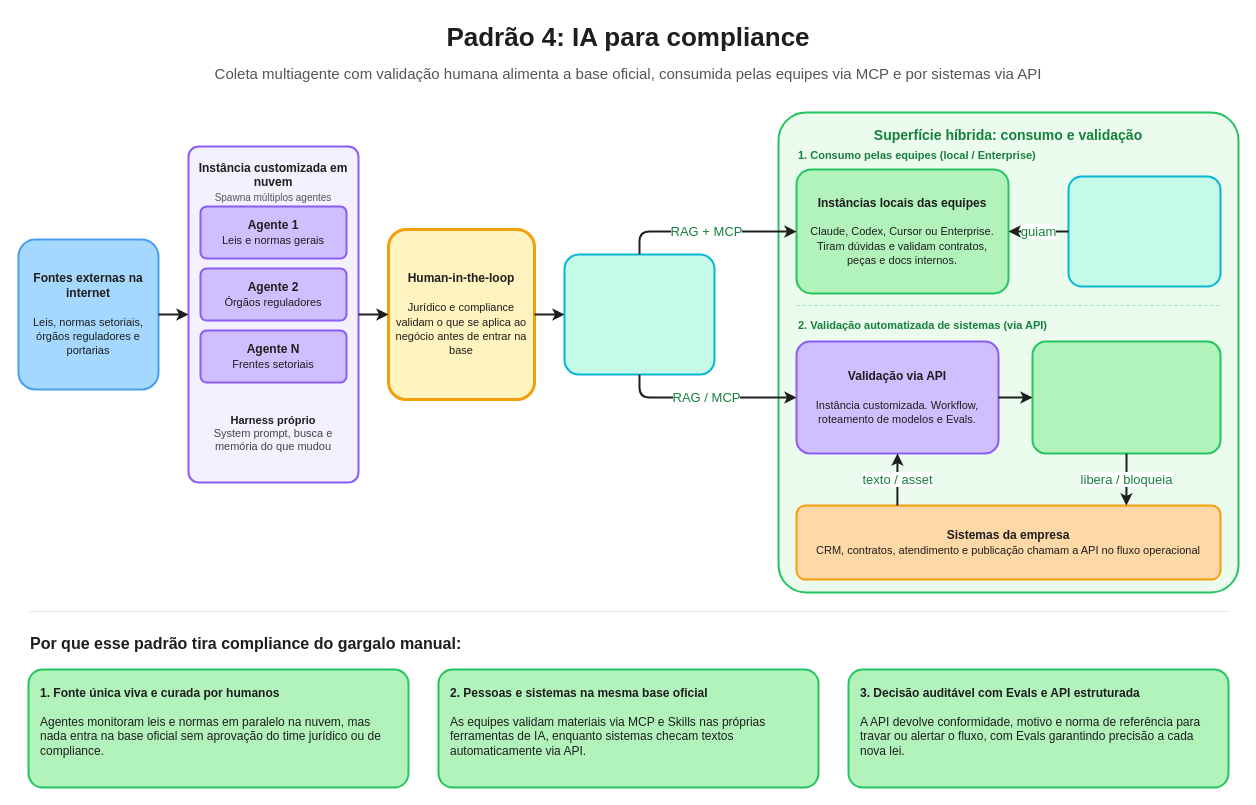
Some shapes in this 1256 by 805 pixel diagram are drawn without their labels. Each missing label, with the centre of its shape:
Knowledge Base de Compliance Database centralizado oficial (RAG + MCP): pixel 639 314
Saída estruturada Conforme ou não, norma/motivo e alerta humano se necessário.: pixel 1126 397
Skills de checagem Roteiros padrão de revisão por tipo de material: pixel 1144 231
